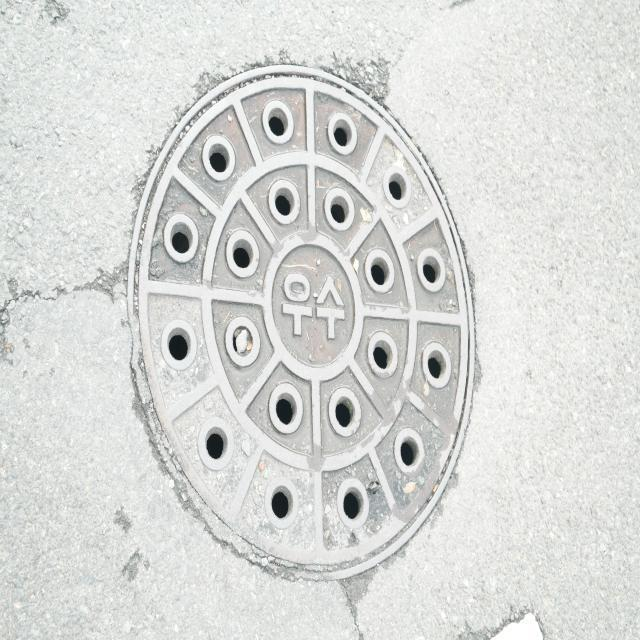manhole: (129, 66, 474, 578)
